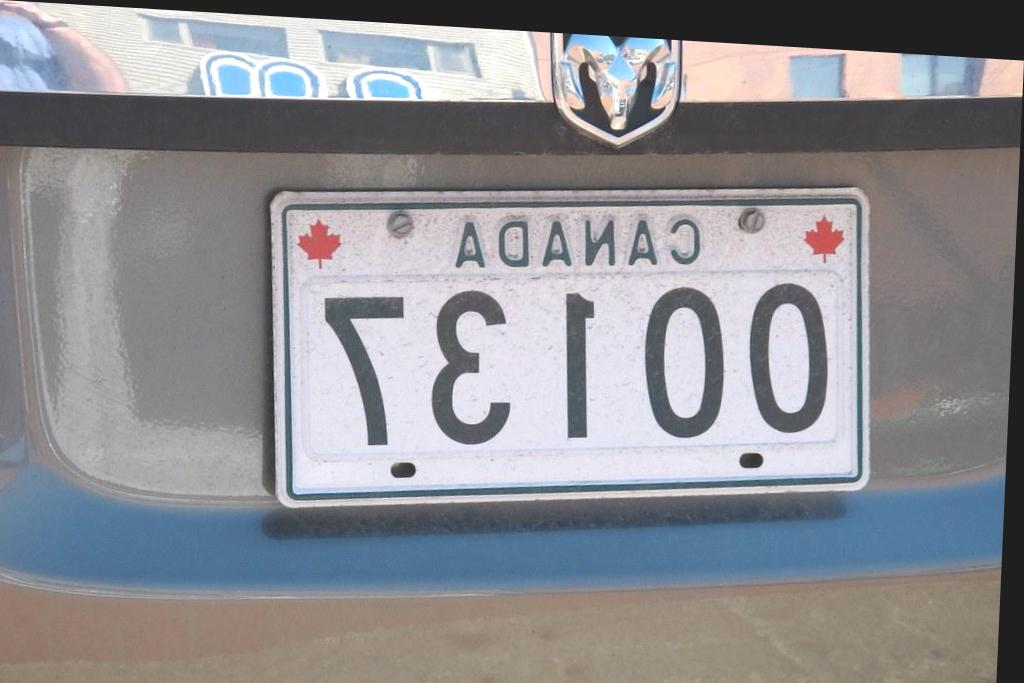License_Plate: (245, 141, 888, 551)
